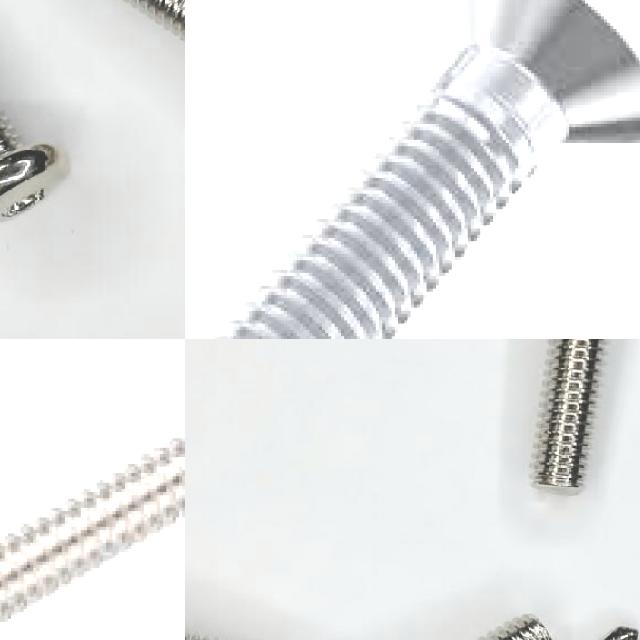Screw: (199, 0, 640, 339), (0, 430, 185, 631), (537, 339, 600, 486), (0, 113, 66, 222)
